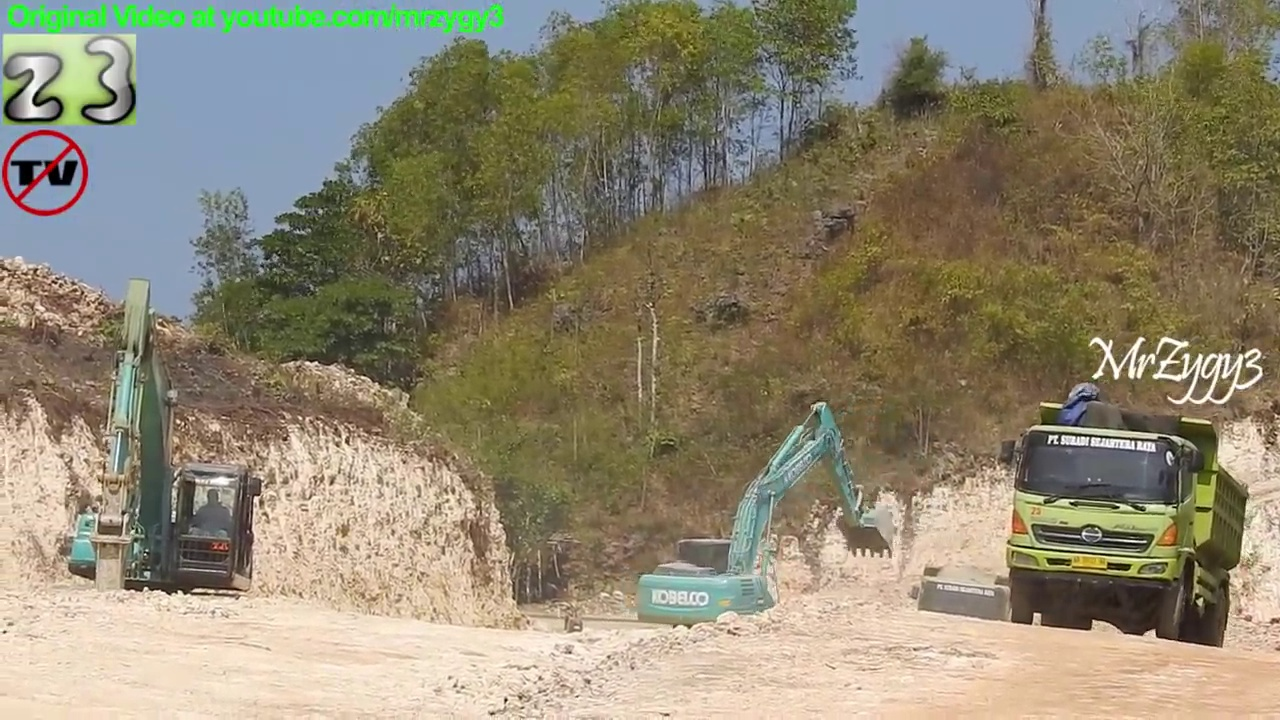excavator: (64, 274, 271, 634), (630, 395, 900, 658)
truck: (996, 396, 1257, 654), (905, 559, 1034, 681)
